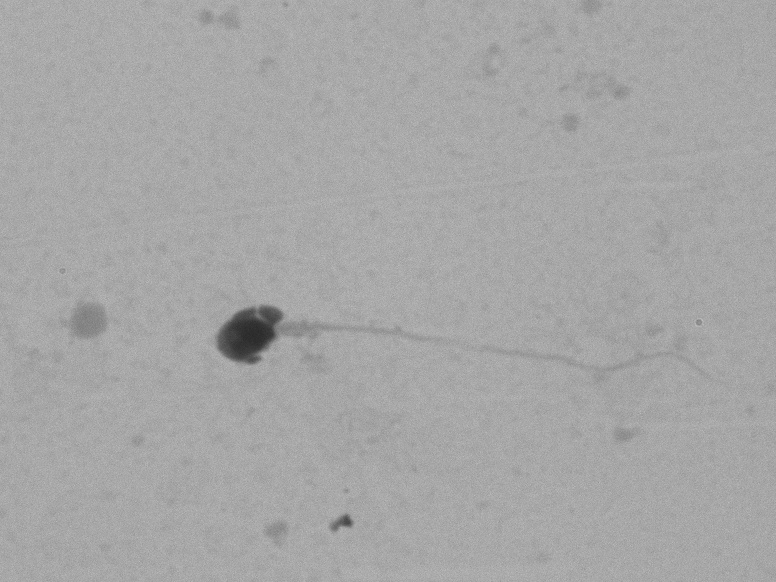Abnormal: (209, 270, 733, 427)
